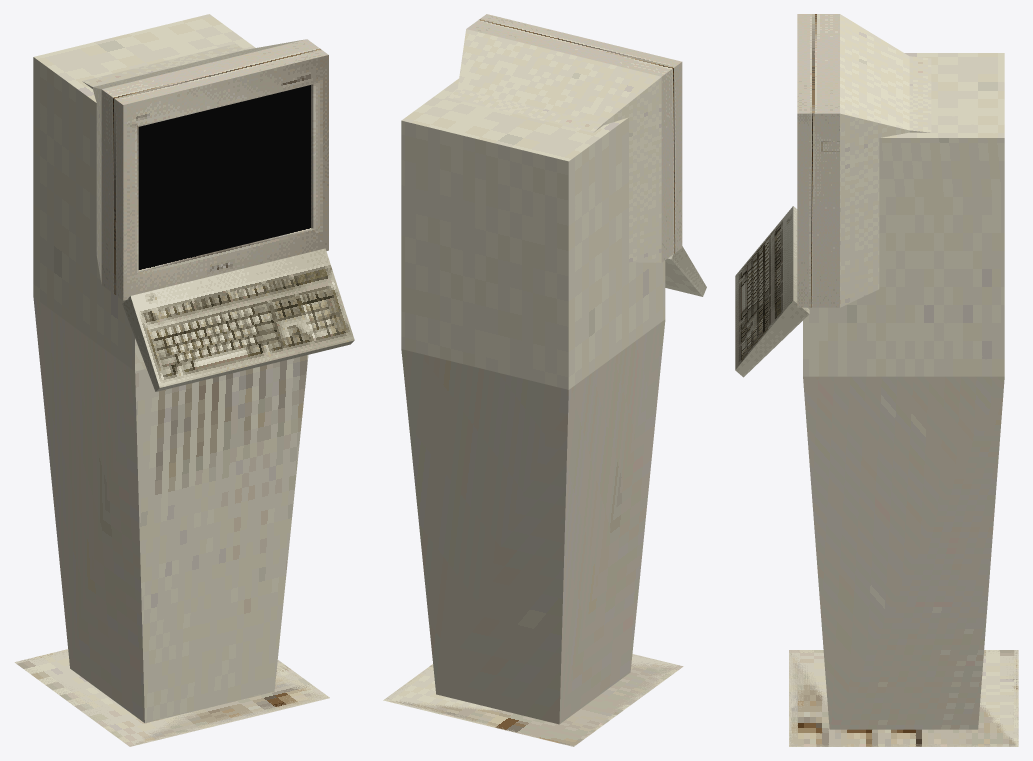
The model's file is totem.glb.
3 views of the same model, side by side, from view 1: azimuth 30°, elevation 25°; view 2: azimuth 150°, elevation 25°; view 3: azimuth 270°, elevation 25° (orthographic). The views are drawn at different scales.
Parts seen in each view (by area): view 1: Cubo, CrtMonitor, Keyboard; view 2: Cubo, CrtMonitor, Keyboard; view 3: Cubo, CrtMonitor, Keyboard.
Part boxes in pixels (box(x1,y1,x2,y2)): Cubo: box(14, 14, 329, 746); CrtMonitor: box(82, 39, 328, 300); Keyboard: box(122, 248, 354, 391); Cubo: box(383, 78, 683, 746); CrtMonitor: box(447, 14, 682, 262); Keyboard: box(665, 246, 706, 296); Cubo: box(789, 53, 1018, 746); CrtMonitor: box(797, 14, 931, 307); Keyboard: box(735, 206, 809, 377).
Size of the model in its own units: 0.506 by 1.5 by 0.6087.
Materials: 2 (2 with a texture image).
